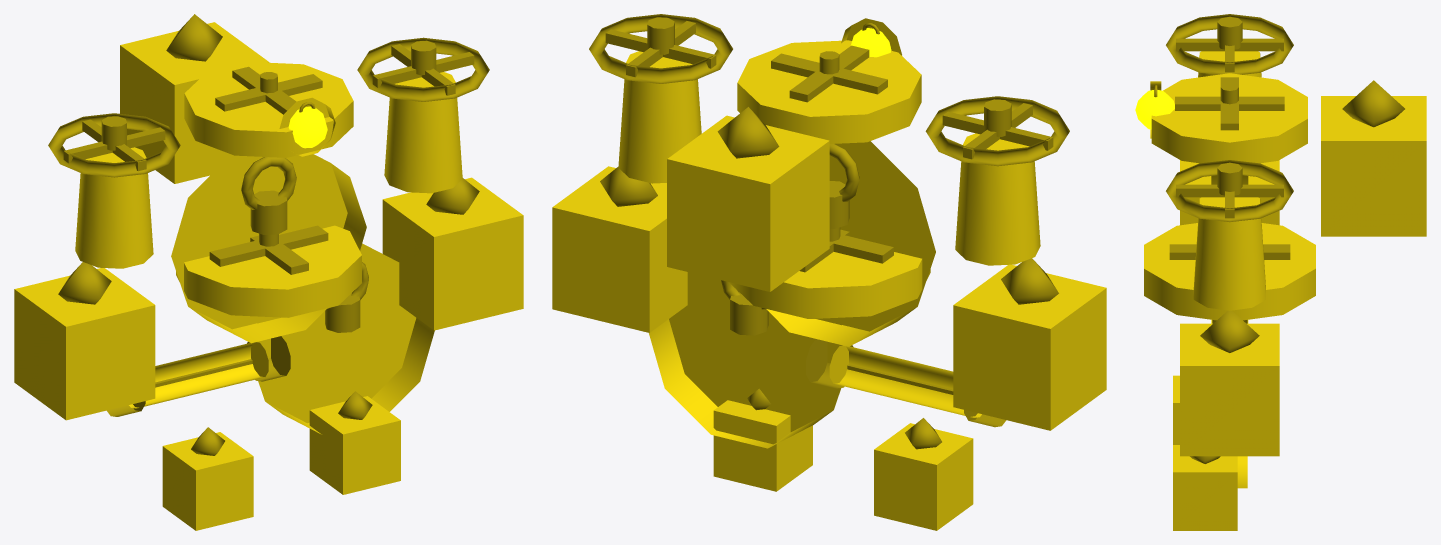
File: golem_044.glb
3 renders of one model, left to right at view 1: azimuth 30°, elevation 25°; view 2: azimuth 150°, elevation 25°; view 3: azimuth 270°, elevation 25°, orthographic. The views are drawn at different scales.
Visible parts, largest first — view 1: Body, Detail, Glow; view 2: Body, Detail, Glow; view 3: Body, Detail, Glow.
Boxes of the visible parts, bbox=[...] form: Body: bbox=[14, 22, 523, 530]; Detail: bbox=[48, 14, 489, 455]; Glow: bbox=[288, 106, 327, 148]; Body: bbox=[552, 18, 1106, 530]; Detail: bbox=[589, 14, 1069, 449]; Glow: bbox=[851, 28, 891, 57]; Body: bbox=[1144, 51, 1426, 530]; Detail: bbox=[1154, 14, 1404, 463]; Glow: bbox=[1135, 90, 1174, 129].
Size of the model in its own units: 1.34 by 1.17 by 0.7653.
